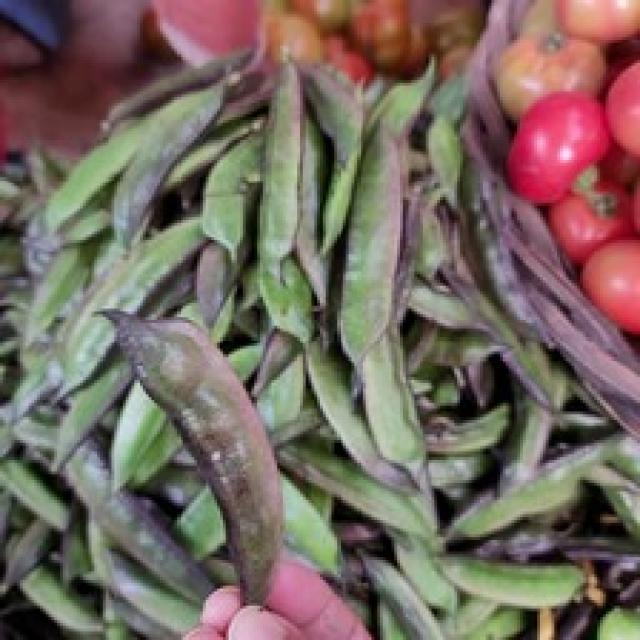Bean: (102, 290, 288, 614)
